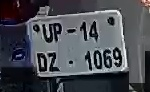0: (91, 47, 103, 71)
1: (78, 17, 90, 43), (82, 48, 94, 71)
4: (87, 19, 101, 43)
6: (102, 47, 112, 71)
9: (111, 45, 124, 71)
D: (36, 49, 48, 72)
P: (52, 19, 62, 43)
U: (40, 21, 54, 44)
Z: (48, 49, 60, 74)
